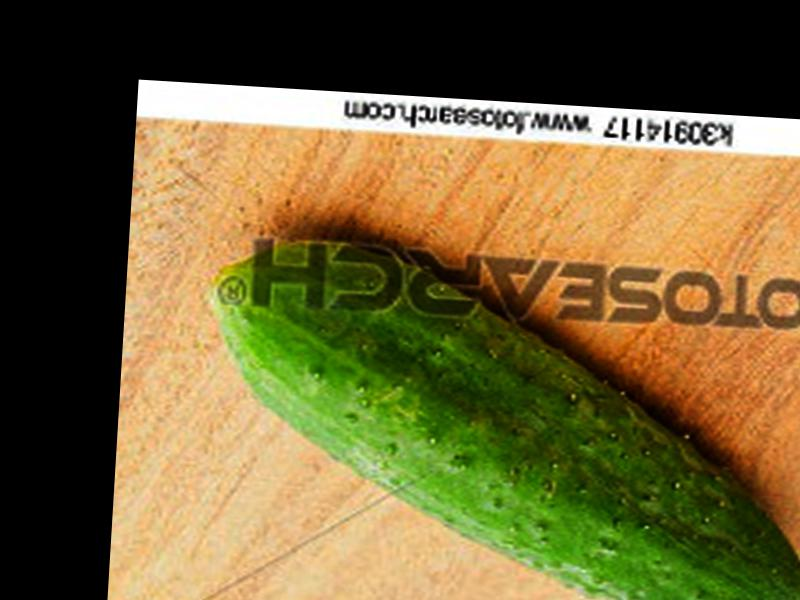Cucumber: (190, 229, 800, 600)
